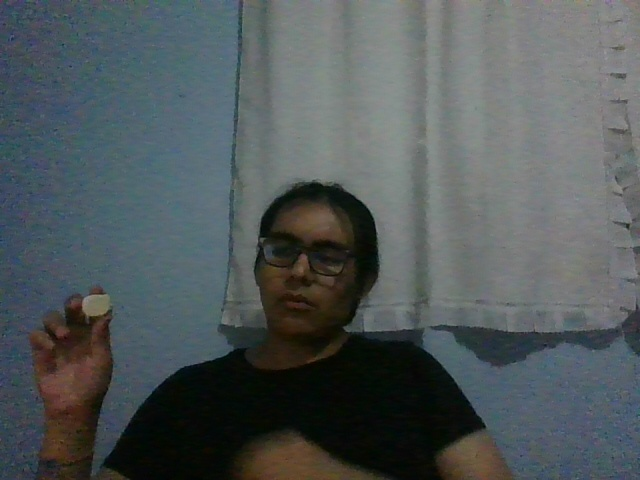goma: (82, 294, 110, 315)
